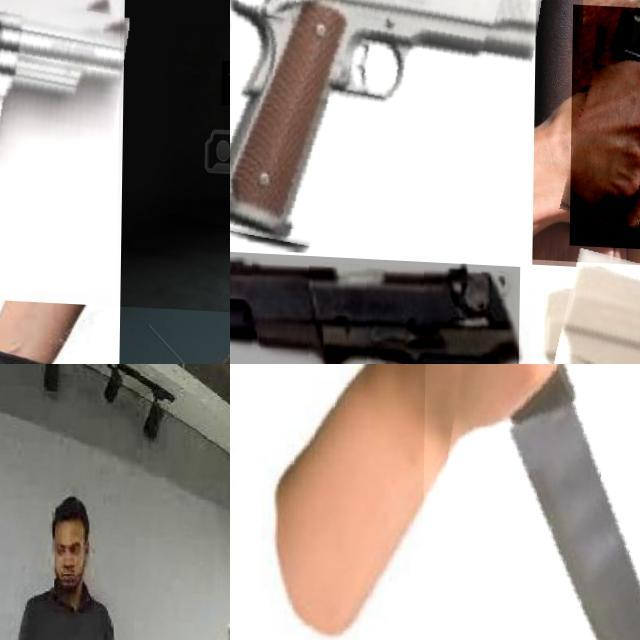-: (421, 364, 640, 640)
gun-knife-thesis - v11 Yolov5 augmented: (230, 0, 536, 268), (0, 0, 158, 291), (230, 251, 521, 364), (570, 0, 640, 251), (221, 56, 230, 102)
